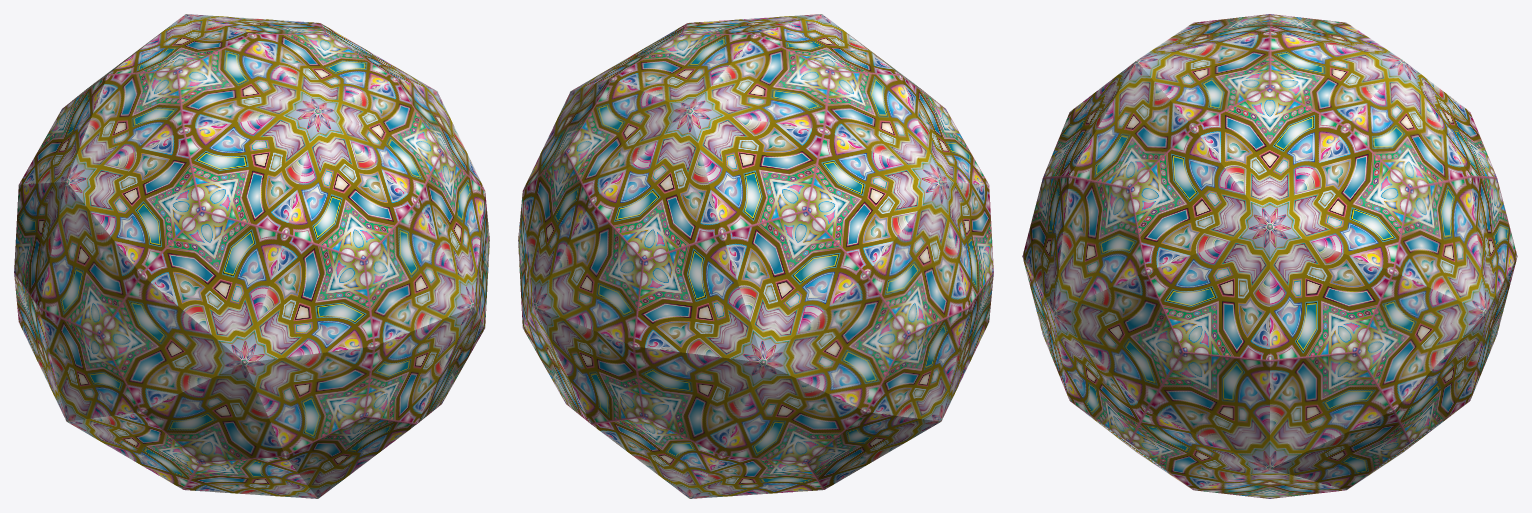
File: 6DeltoidalHexecontahedron.obj
3 views of the same model, side by side, from view 1: azimuth 30°, elevation 25°; view 2: azimuth 150°, elevation 25°; view 3: azimuth 270°, elevation 25° (orthographic).
Size of the model in its own units: 4.47 by 4.47 by 4.47.
1 material, 1 textured.
